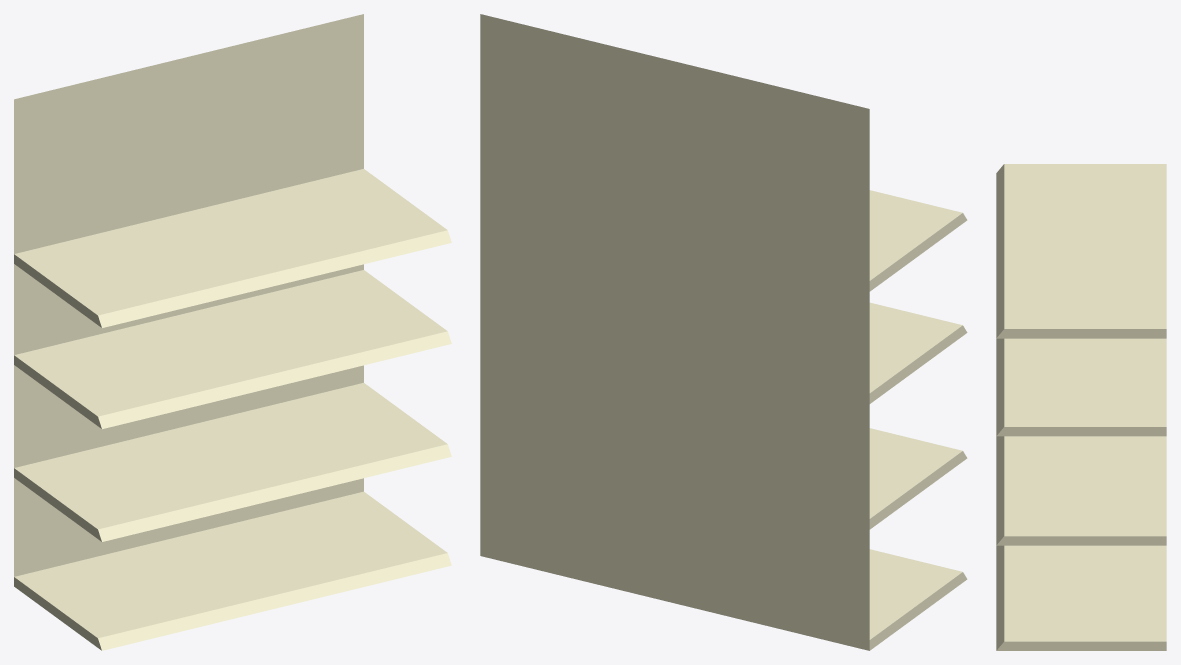
File: Shelf2.glb
The picture shows the model from 3 angles, left to right: view 1: azimuth 30°, elevation 25°; view 2: azimuth 150°, elevation 25°; view 3: azimuth 270°, elevation 25°; orthographic projection. The views are drawn at different scales.
Visible parts, largest first — view 1: crisp02.001; view 2: crisp02.001; view 3: crisp02.001.
Boxes of the visible parts, <box> form: crisp02.001: <box>14,14,451,650</box>; crisp02.001: <box>480,14,967,650</box>; crisp02.001: <box>996,164,1166,650</box>.
Size of the model in its own units: 2.81 by 3.74 by 1.22.
